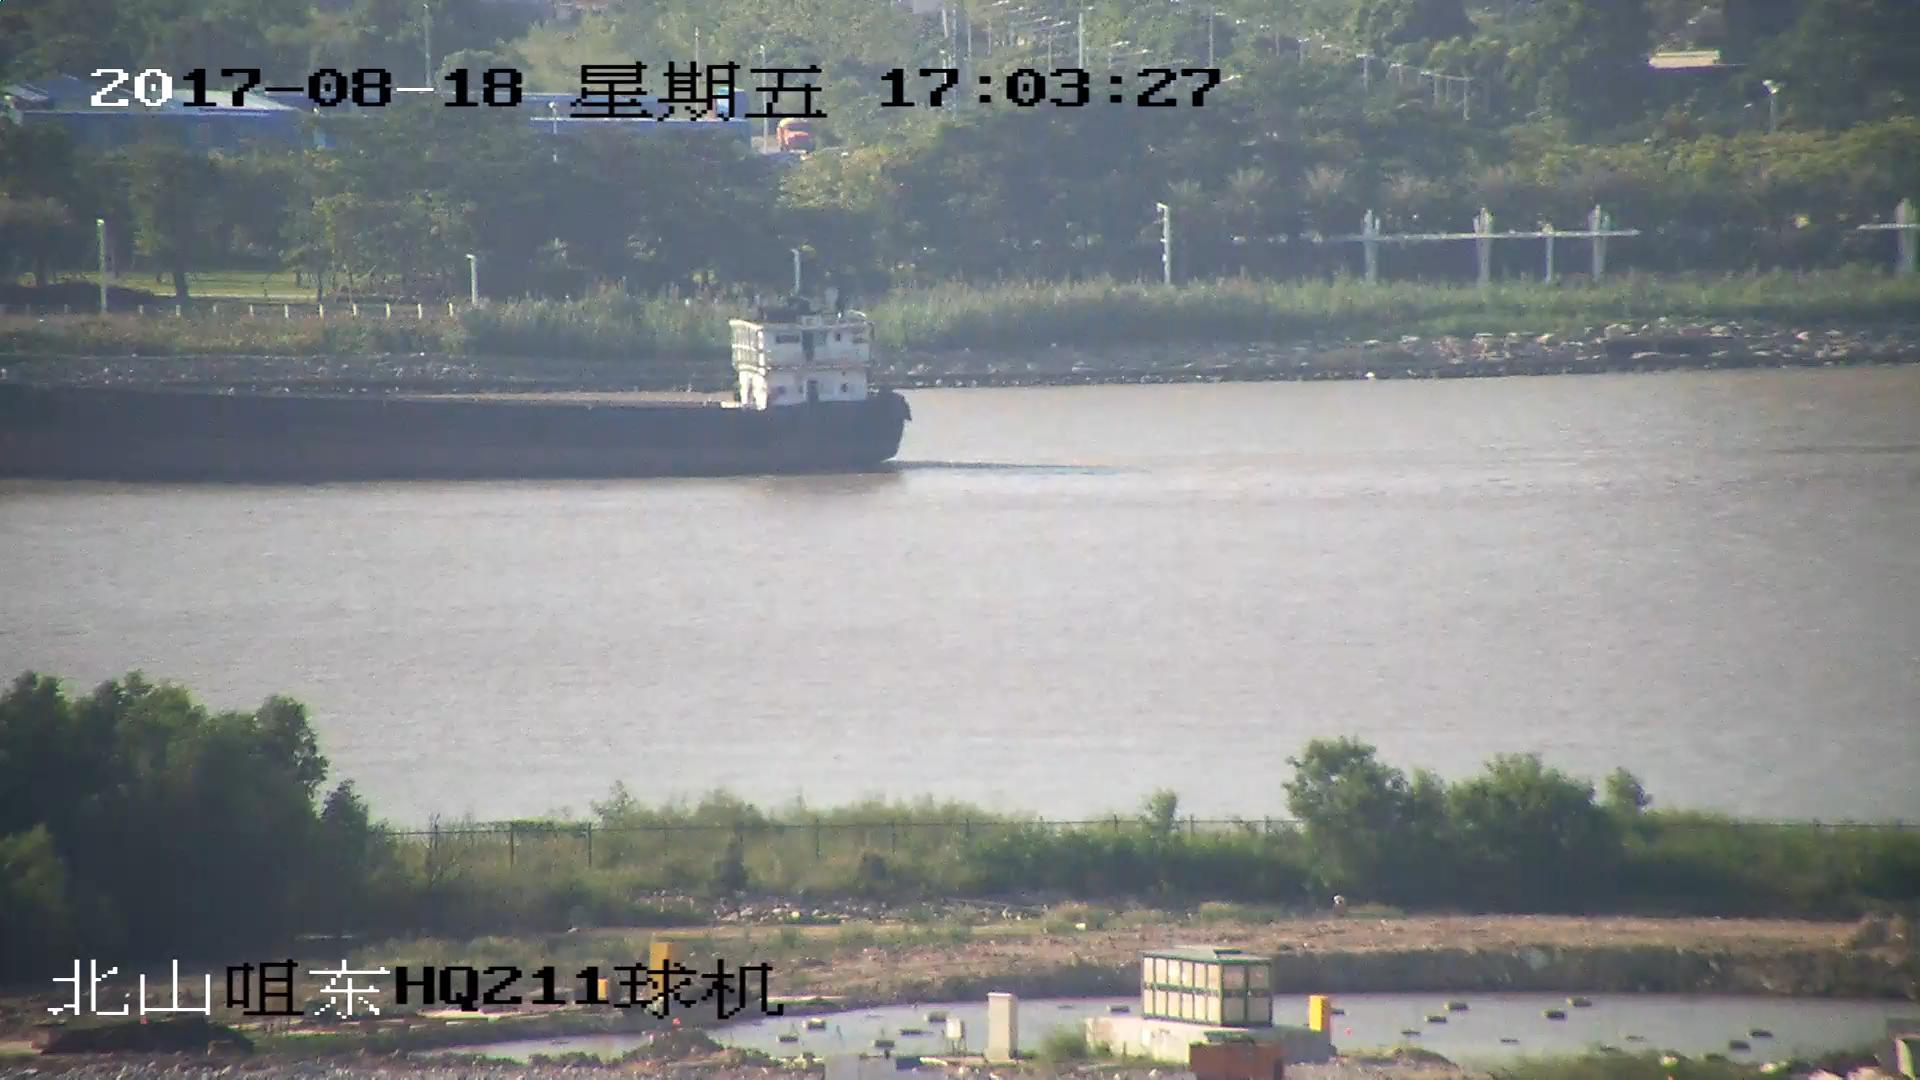Ship: (3, 294, 909, 473)
